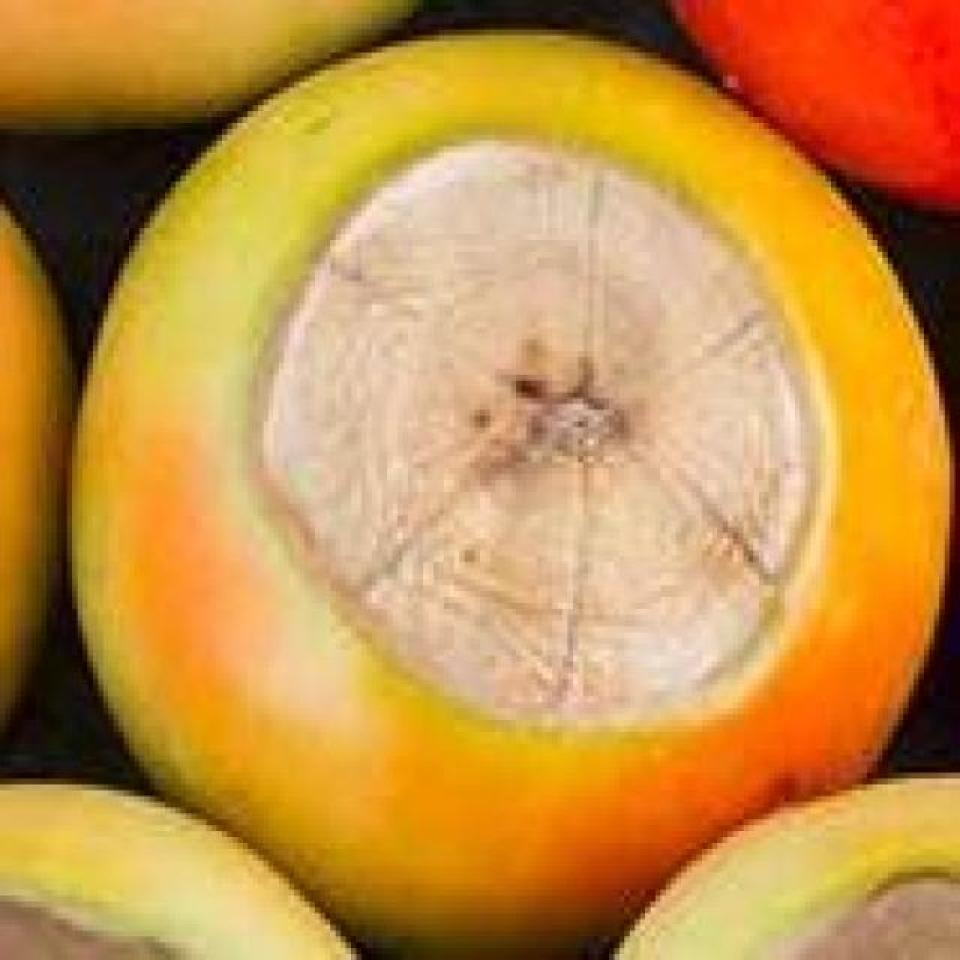Blossom_end_rot: (250, 126, 828, 741), (774, 866, 956, 955)
